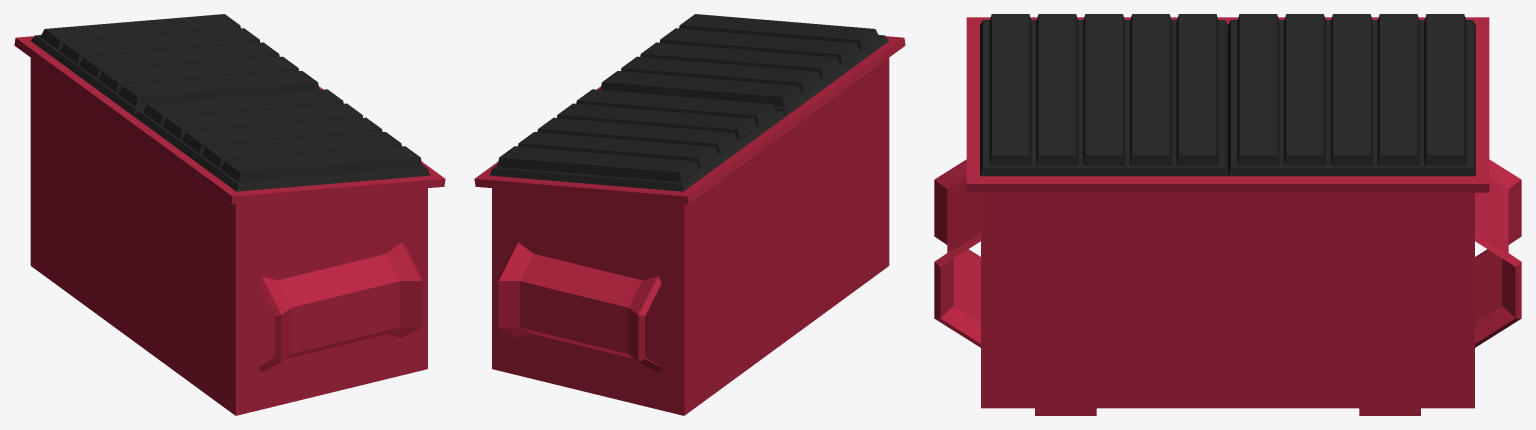
File: TrashCan2.fbx
The picture shows the model from 3 angles, left to right: view 1: azimuth 30°, elevation 25°; view 2: azimuth 150°, elevation 25°; view 3: azimuth 270°, elevation 25°; orthographic projection. The views are drawn at different scales.
Parts seen in each view (by area): view 1: TreshCan3; view 2: TreshCan3; view 3: TreshCan3.
Boxes of the visible parts, bbox=[...] form: TreshCan3: bbox=[14, 14, 445, 415]; TreshCan3: bbox=[474, 14, 905, 415]; TreshCan3: bbox=[934, 14, 1521, 415].
Bounding box in the file's own units: 145 × 164 × 285.
